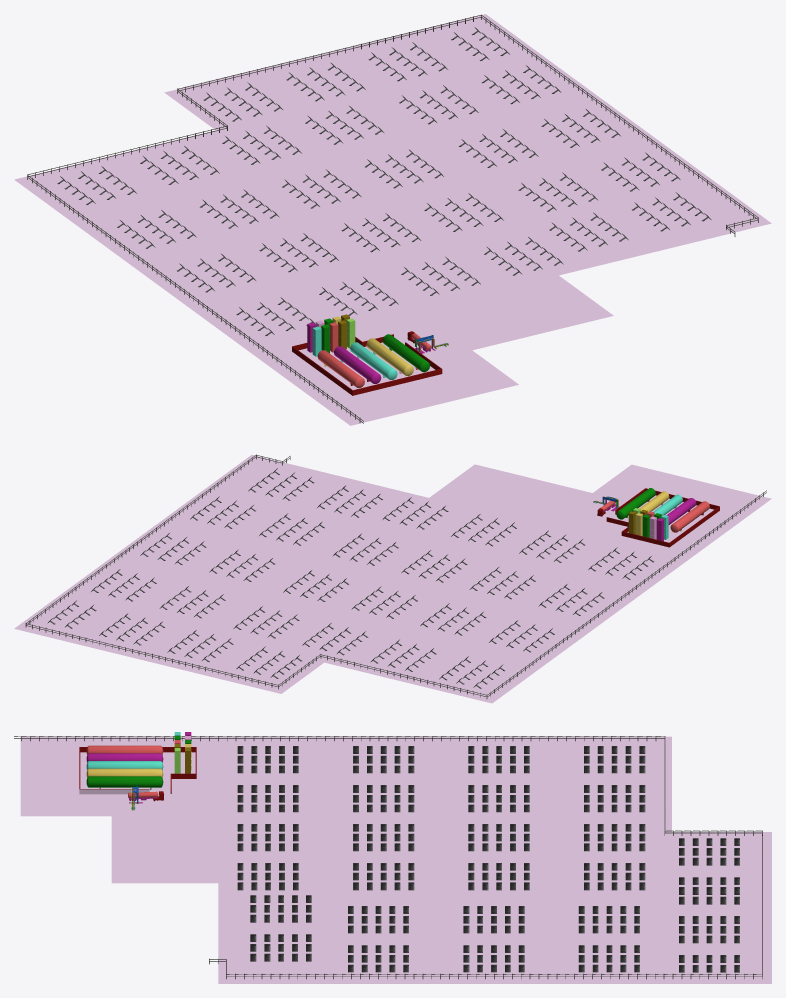
The model's file is p3_solar.obj.
3 renders of one model, top to bottom at view 1: azimuth 30°, elevation 25°; view 2: azimuth 150°, elevation 25°; view 3: azimuth 270°, elevation 25°, orthographic. The views are drawn at different scales.
Visible parts, largest first — view 1: p3_solar; view 2: p3_solar; view 3: p3_solar.
Boxes of the visible parts, <box> form: p3_solar: <box>14,14,771,425</box>; p3_solar: <box>14,454,771,703</box>; p3_solar: <box>14,732,771,983</box>.
Size of the model in its own units: 127 by 6.18 by 164.
Materials: 24 (9 with a texture image).
